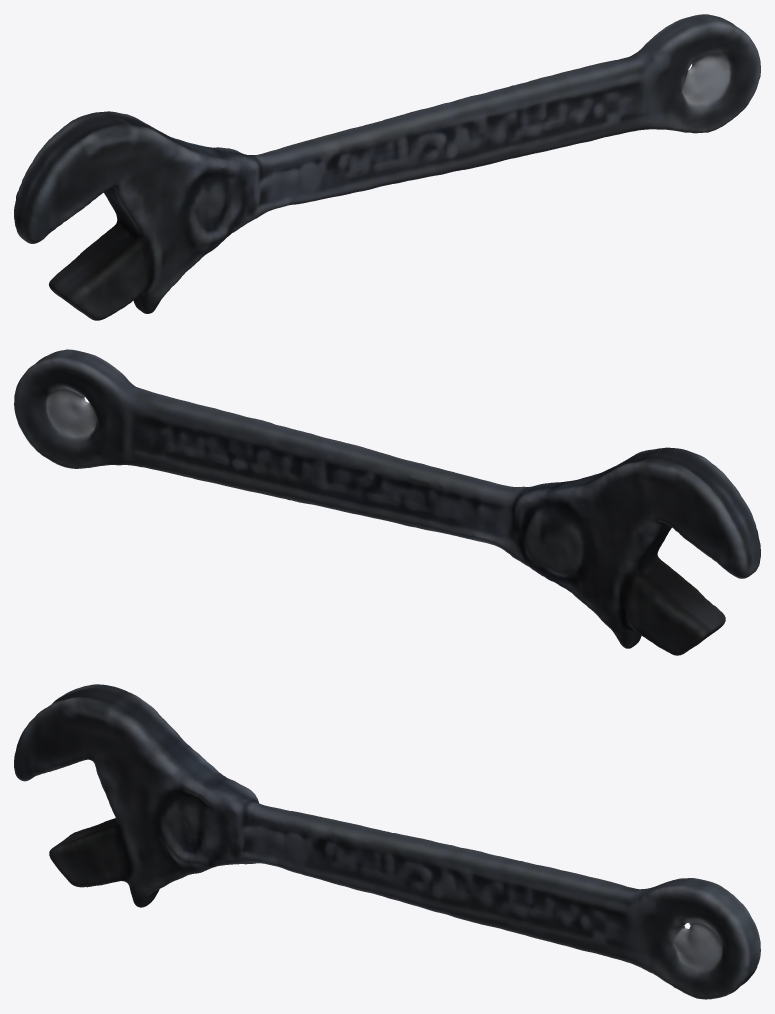
Rendered from wrench.glb.
3 views of the same model, one above another, from view 1: azimuth 30°, elevation 25°; view 2: azimuth 150°, elevation 25°; view 3: azimuth 330°, elevation 25° (orthographic).
Parts seen in each view (by area): view 1: world; view 2: world; view 3: world.
Part boxes in pixels (<box>): world: <box>14,14,760,320</box>; world: <box>14,349,760,655</box>; world: <box>14,684,760,999</box>.
Size of the model in its own units: 0.601 by 0.1573 by 0.0418.
Materials: 1 (1 with a texture image).
